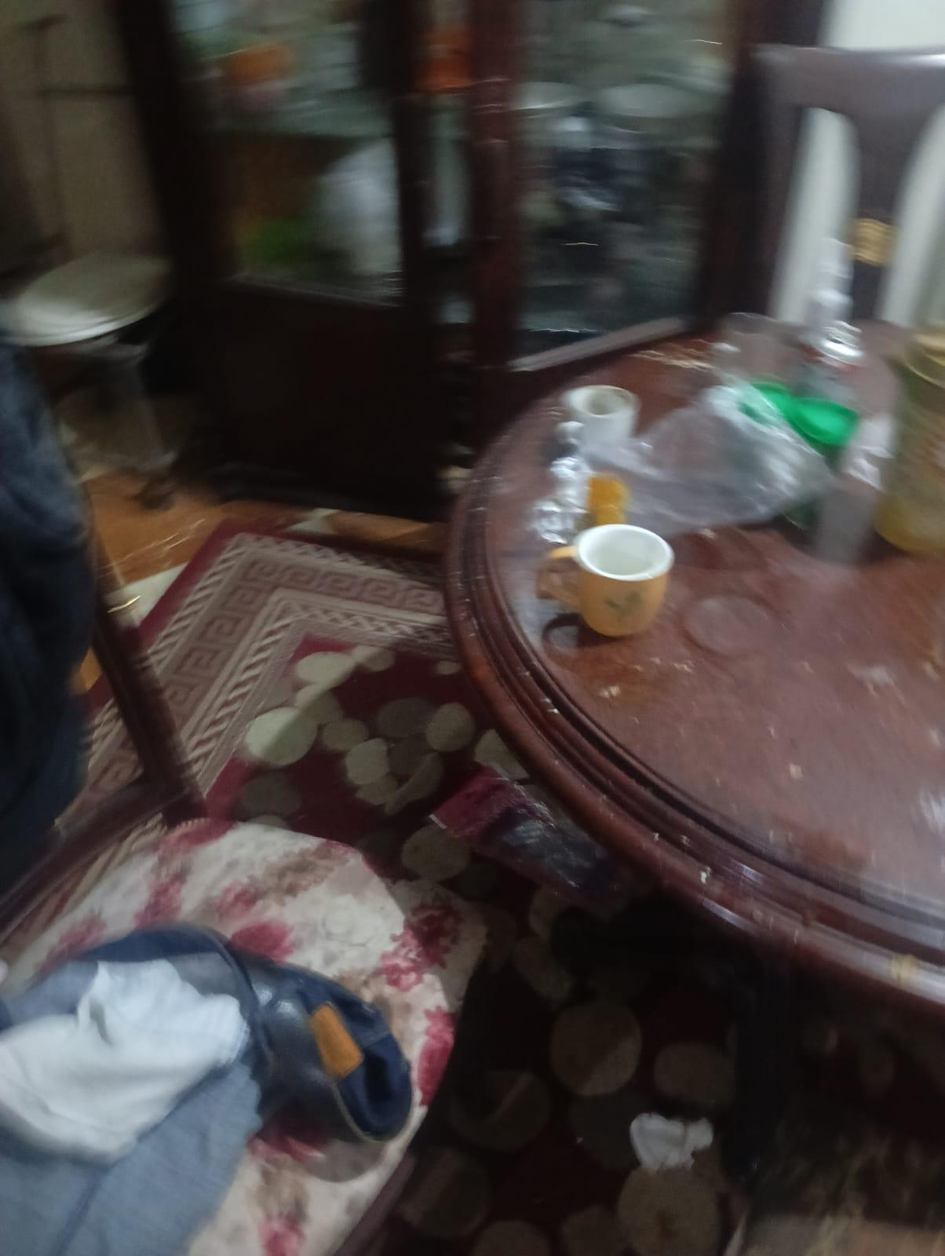cup: (537, 524, 673, 636), (563, 385, 639, 447)
